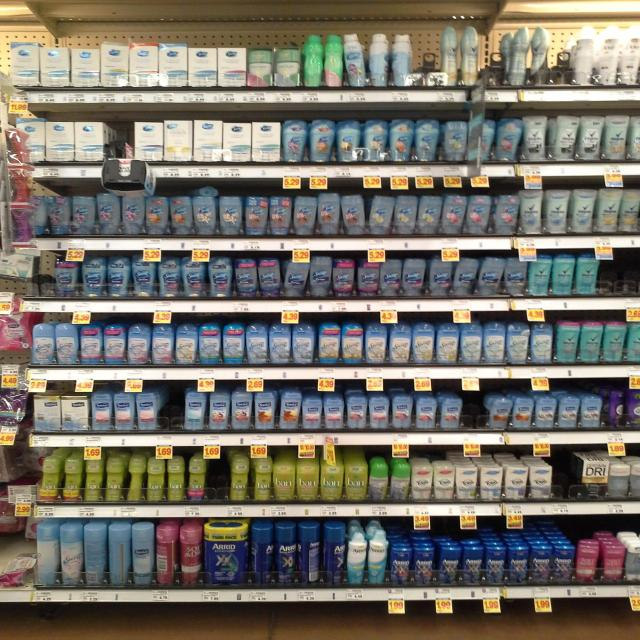empty: (602, 259, 639, 295), (207, 457, 229, 502), (553, 455, 576, 498), (113, 120, 134, 159), (164, 389, 183, 430), (466, 395, 485, 430)
